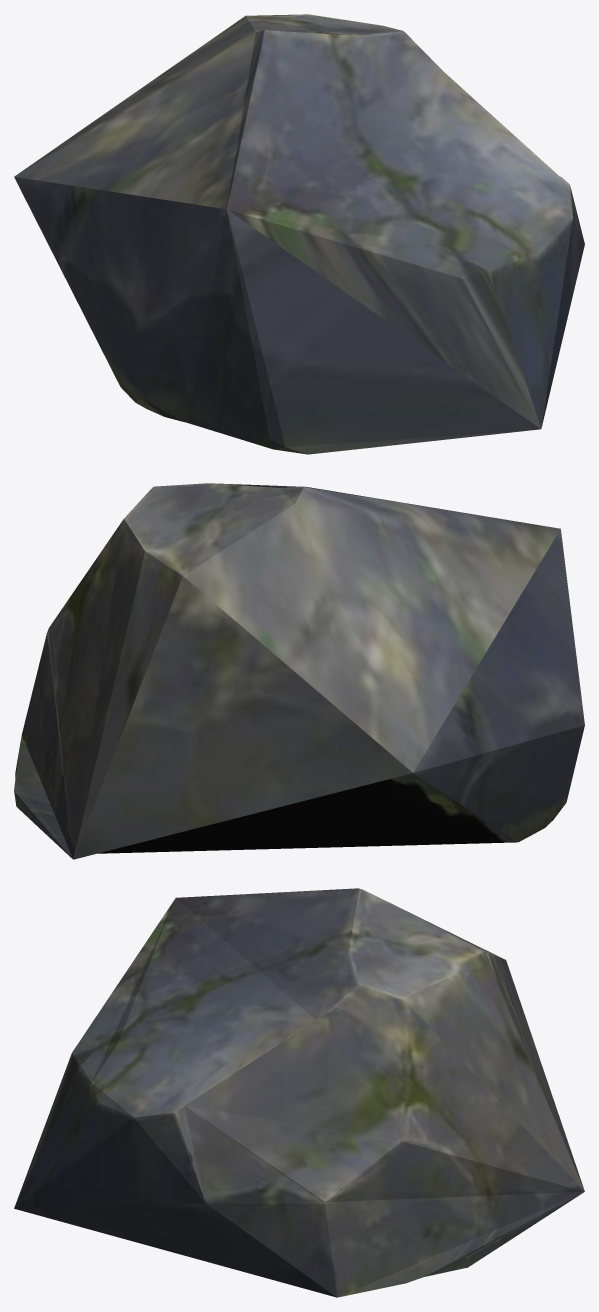
Rendered from rock_granite_xl_a_lod2.glb.
3 views of the same model, one above another, from view 1: azimuth 30°, elevation 25°; view 2: azimuth 150°, elevation 25°; view 3: azimuth 270°, elevation 25° (orthographic). The views are drawn at different scales.
Parts seen in each view (by area): view 1: rock_granite_xl_a_lod2; view 2: rock_granite_xl_a_lod2; view 3: rock_granite_xl_a_lod2.
Part boxes in pixels (<box>): rock_granite_xl_a_lod2: <box>14,14,584,454</box>; rock_granite_xl_a_lod2: <box>14,483,584,859</box>; rock_granite_xl_a_lod2: <box>14,888,584,1297</box>.
Bounding box in the file's own units: 2.76 × 1.71 × 3.11.
1 material, 1 textured.
